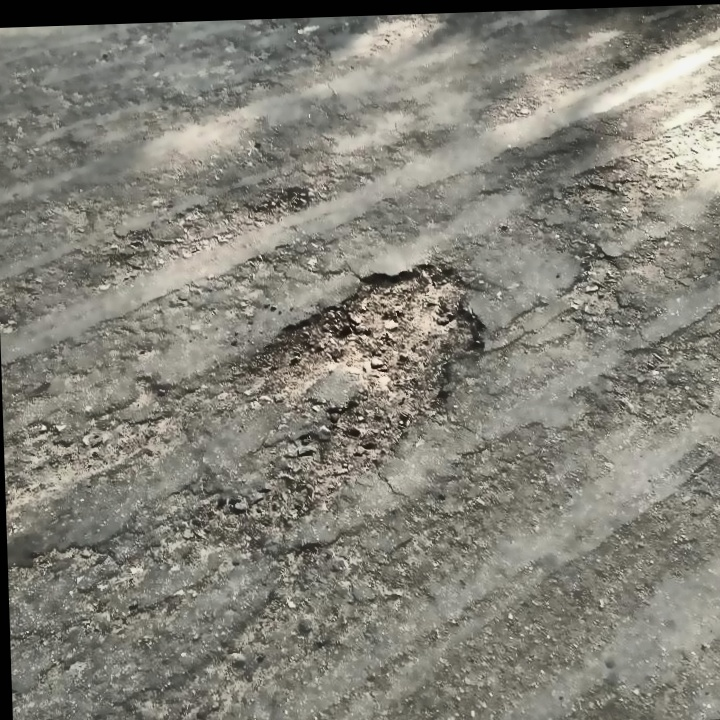pothole: (233, 254, 497, 505)
